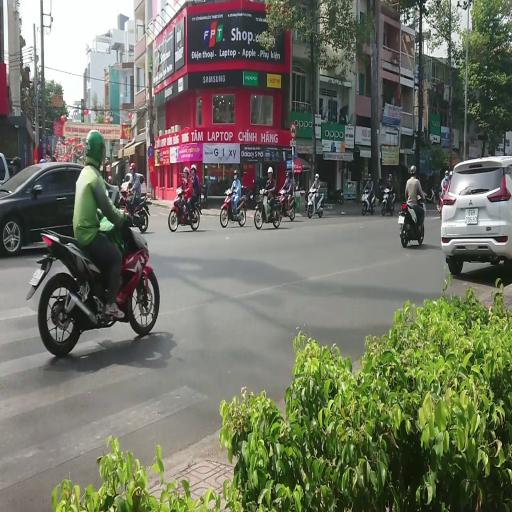bikes: (26, 220, 160, 356), (398, 194, 427, 248), (168, 188, 200, 232), (117, 188, 149, 232), (254, 188, 281, 229), (220, 188, 246, 227), (53, 136, 85, 164), (176, 184, 202, 217), (436, 170, 452, 216), (277, 189, 296, 221), (306, 187, 324, 218), (242, 179, 260, 209), (360, 187, 376, 215), (381, 186, 395, 216), (104, 178, 119, 206), (240, 185, 250, 209), (437, 189, 444, 216), (200, 183, 207, 207), (335, 188, 344, 204), (430, 186, 437, 203)
helmet: (85, 130, 105, 168), (121, 182, 128, 194), (124, 173, 132, 183), (137, 173, 144, 184), (176, 188, 183, 196), (184, 166, 190, 175), (410, 165, 416, 174), (130, 162, 136, 170), (233, 170, 238, 179), (267, 166, 273, 173), (190, 164, 196, 171), (224, 188, 230, 195), (39, 158, 46, 163), (388, 174, 392, 181), (286, 171, 290, 178), (108, 175, 112, 182), (315, 173, 319, 179), (260, 188, 264, 194), (434, 184, 438, 190), (368, 173, 371, 180), (233, 170, 238, 174), (445, 170, 448, 176), (108, 174, 111, 179), (450, 171, 452, 176)
